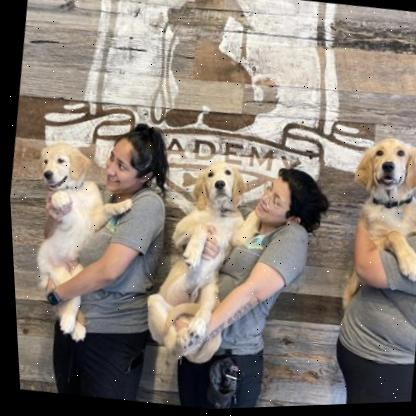dog: (340, 132, 416, 282)
person: (192, 130, 348, 409), (59, 107, 186, 404)
